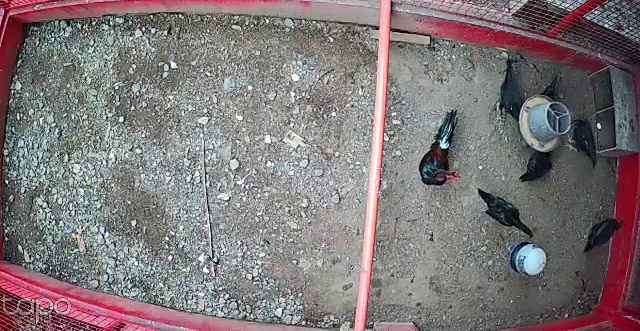Chicken: (476, 186, 535, 241), (561, 117, 600, 170), (498, 62, 525, 122), (579, 217, 624, 253), (518, 144, 557, 183), (538, 73, 561, 101)
Drinker: (509, 241, 548, 277)
Feeder: (518, 94, 572, 154)
Rooster: (417, 106, 466, 186)
